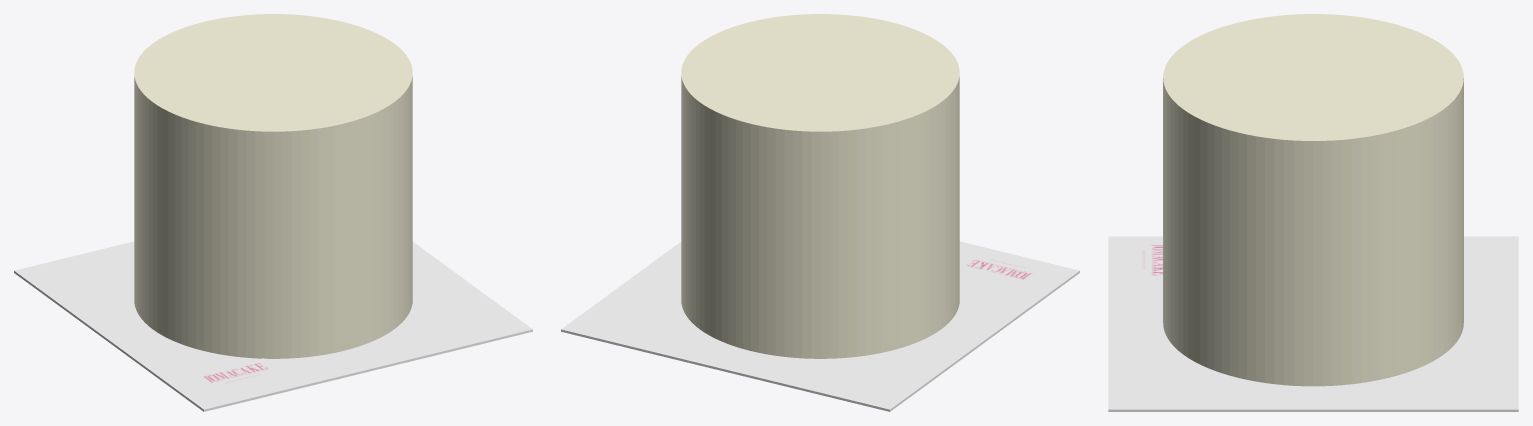
Rendered from cake_4in_layers3_v33.glb.
3 renders of one model, left to right at view 1: azimuth 30°, elevation 25°; view 2: azimuth 150°, elevation 25°; view 3: azimuth 270°, elevation 25°, orthographic. The views are drawn at different scales.
Parts seen in each view (by area): view 1: Cake, Board, Logo; view 2: Cake, Board, Logo; view 3: Cake, Board, Logo.
Part boxes in pixels (x1,y1,x2,y2): Cake: (134,14,412,358); Board: (14,241,532,411); Logo: (191,358,284,390); Cake: (681,14,959,358); Board: (561,241,1079,411); Logo: (959,251,1047,284); Cake: (1163,14,1463,386); Board: (1108,236,1518,411); Logo: (1133,241,1162,278).
Size of the model in its own units: 0.15 by 0.1 by 0.15.
